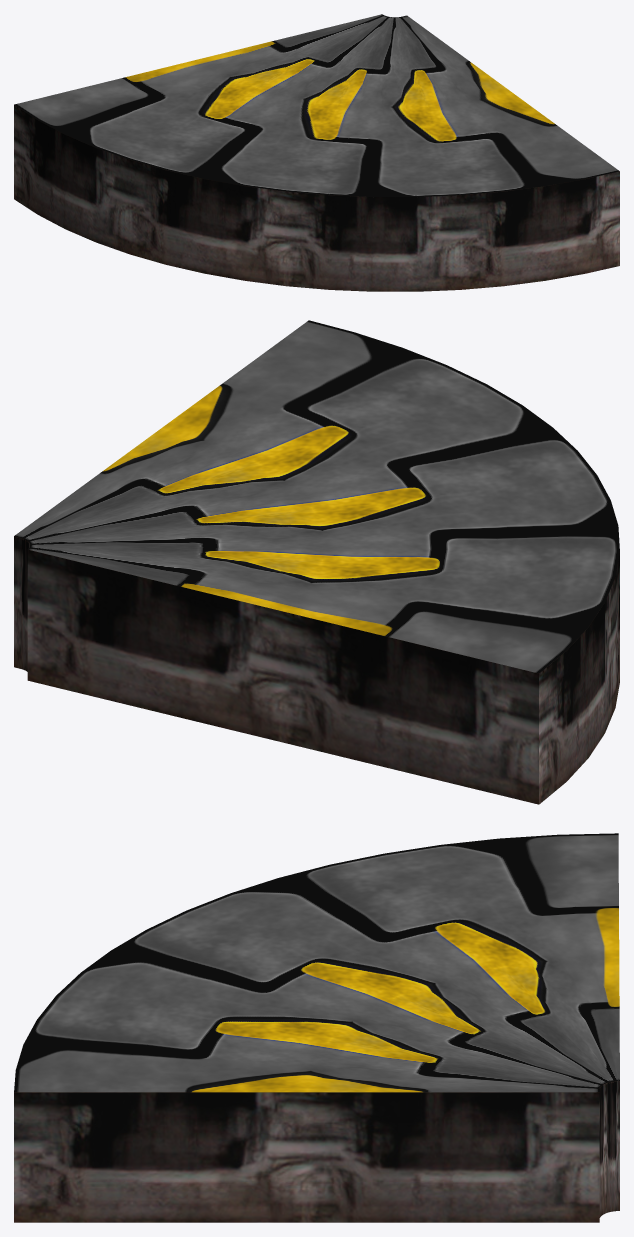
Rendered from belt-L.glb.
3 views of the same model, one above another, from view 1: azimuth 30°, elevation 25°; view 2: azimuth 150°, elevation 25°; view 3: azimuth 270°, elevation 25° (orthographic). The views are drawn at different scales.
Visible parts, largest first — view 1: Cube; view 2: Cube; view 3: Cube.
Boxes of the visible parts, x1,y1,x2,y2 form: Cube: [14, 14, 619, 291]; Cube: [14, 320, 619, 804]; Cube: [14, 833, 619, 1222].
Bounding box in the file's own units: 1.96 × 0.4586 × 1.94.
Materials: 2 (2 with a texture image).
